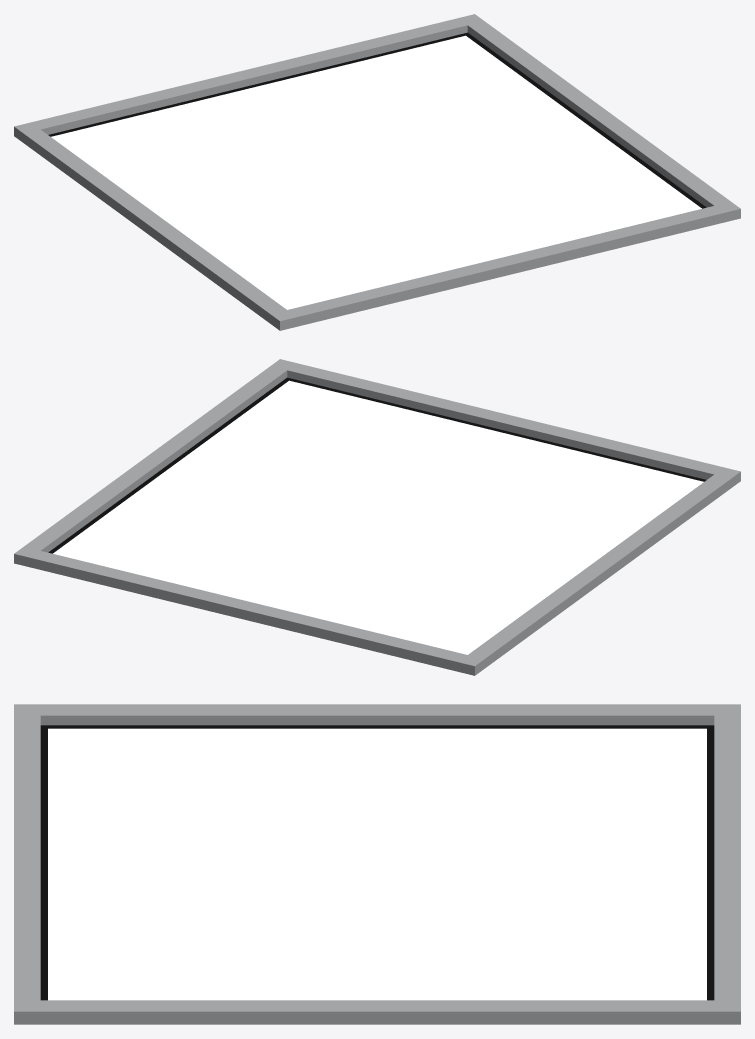
The model's file is gteki_luminaire_panel_600.glb.
The picture shows the model from 3 angles, top to bottom: view 1: azimuth 30°, elevation 25°; view 2: azimuth 150°, elevation 25°; view 3: azimuth 270°, elevation 25°; orthographic projection. The views are drawn at different scales.
Visible parts, largest first — view 1: VIS_body; view 2: VIS_body; view 3: VIS_body.
Part boxes in pixels (bbox=[...]): VIS_body: bbox=[14, 14, 740, 330]; VIS_body: bbox=[14, 359, 740, 675]; VIS_body: bbox=[14, 704, 740, 1024].
Bounding box in the file's own units: 0.6 × 0.012 × 0.6.
Materials: 1 (1 with a texture image).
